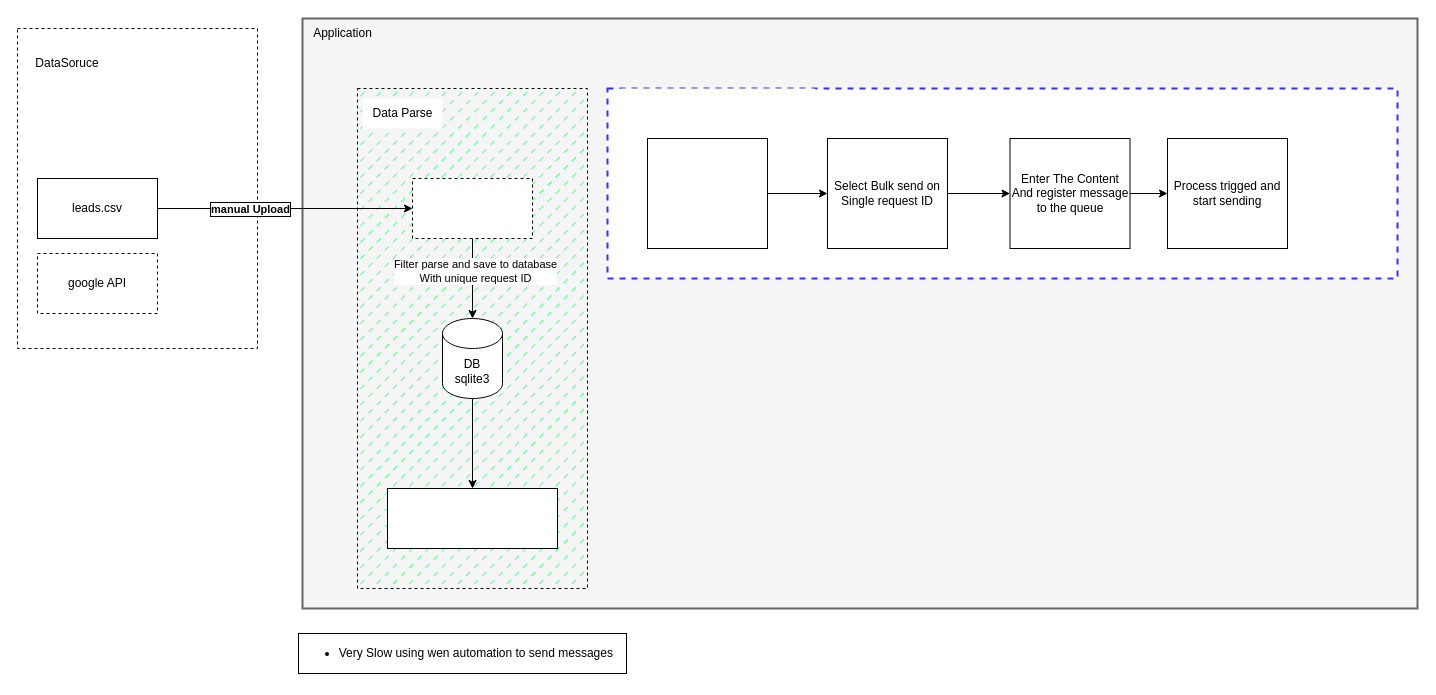
This 1436x695 diagram has some shape labels left out. Here are the shapes that lost their labels. From the top down, the centre of each, then its label:
At [717,103]: "Service 1 : Send Bulk WhatsApp".
At [472,208]: "Update .csv file".
At [707,193]: "First Save cvf contact file before trigger request".
At [472,518]: "Generate vcf file with download link and psud link to whatsApp".
